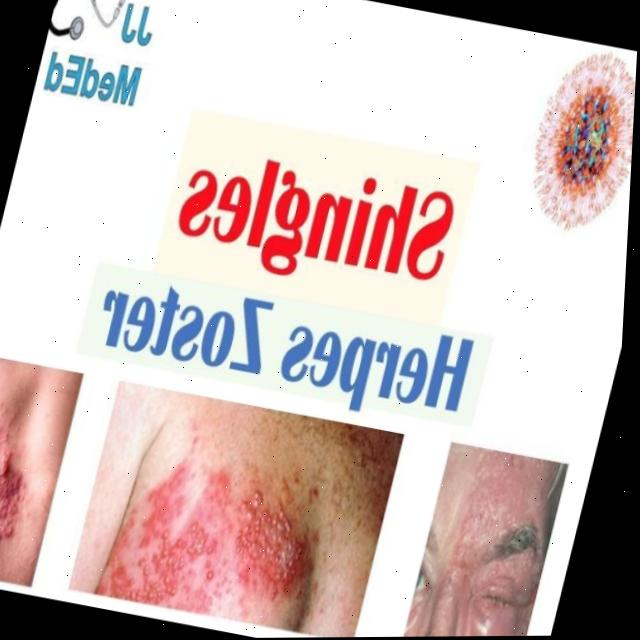Shingles: (92, 441, 337, 636), (446, 446, 556, 579), (0, 380, 47, 575)
